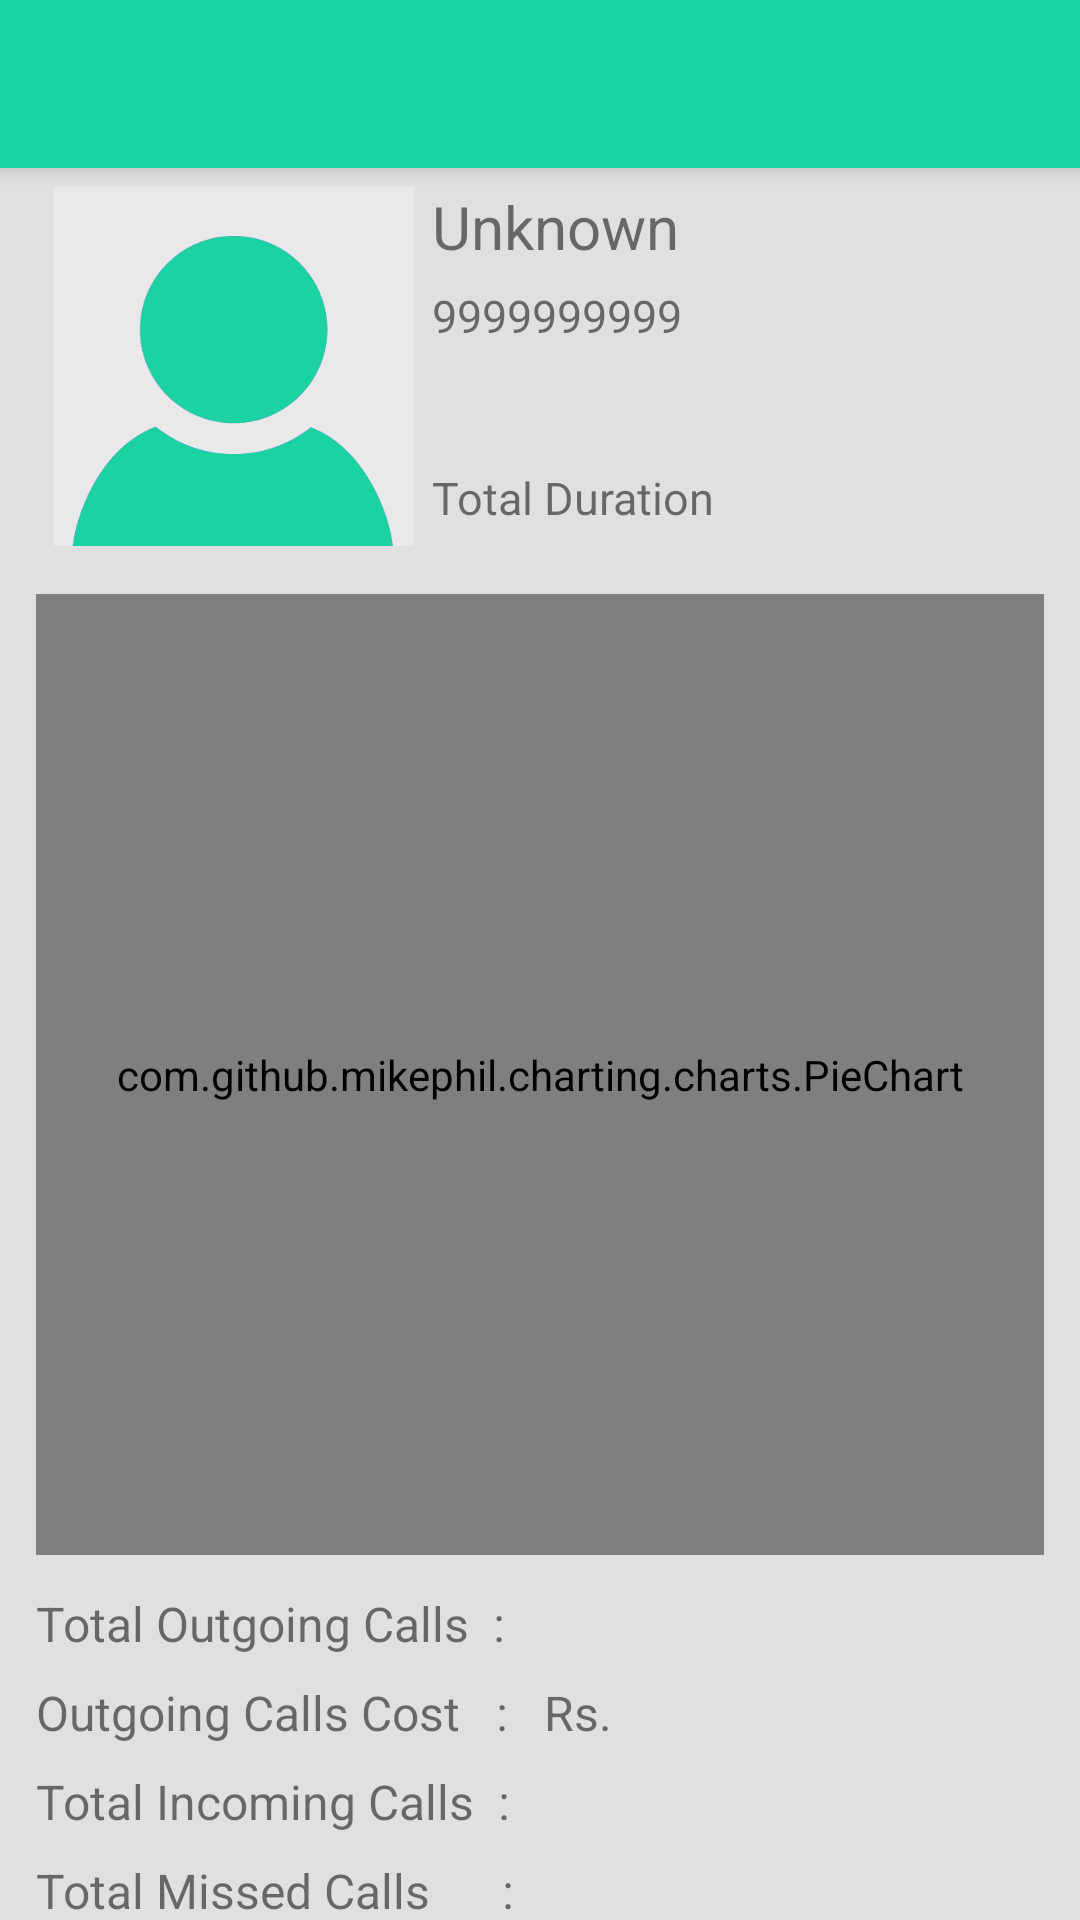

Named icons in this screenshot (1080x1920) and their centers, (x=x, y=y):
contact: (x=233, y=391)
